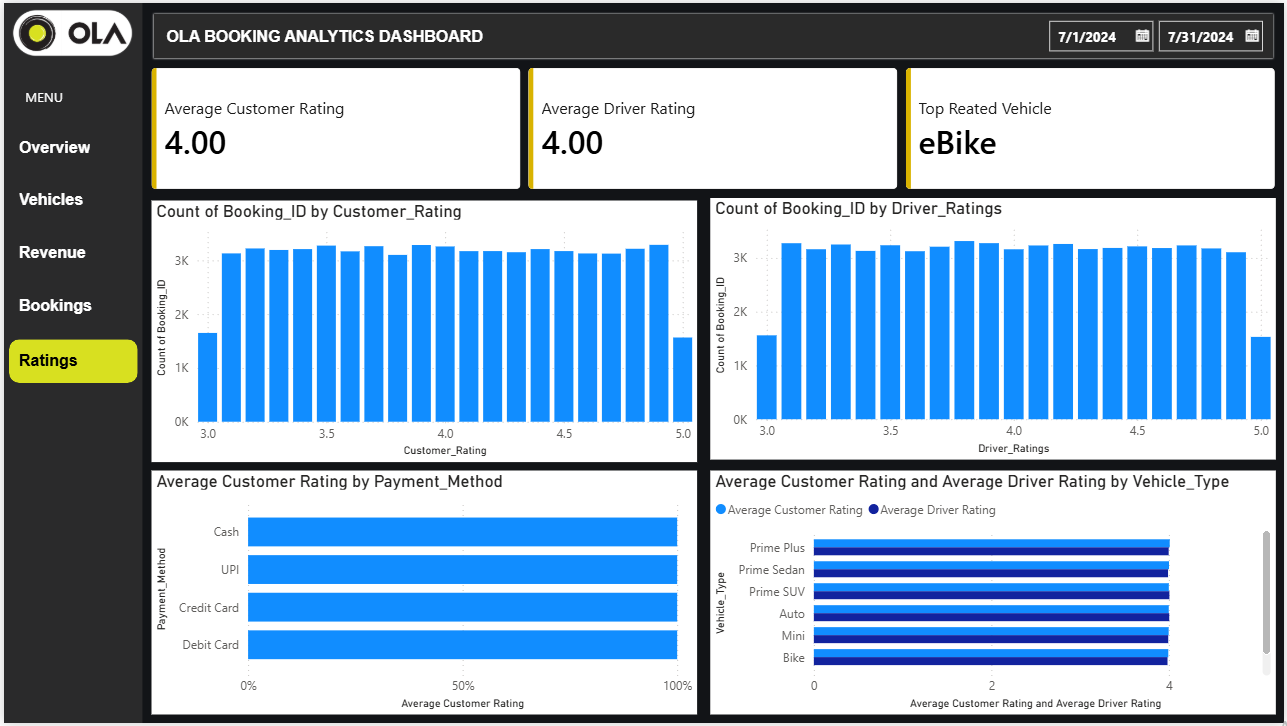

The page's visual inventory and layout, read from the dashboard file:
{"tool":"powerbi","page":{"name":"Ratings","canvas":[1280,720],"ordinal":4},"visuals":[{"type":"shape","box":[0,0,138.8,720],"z":0},{"type":"image","box":[8.8,2.5,120,55],"z":1000},{"type":"textbox","box":[16.2,80,53.8,28.8],"z":2000},{"type":"actionButton","box":[5,122.5,128.8,43.8],"z":3000},{"type":"actionButton","box":[5,175,128.8,43.8],"z":4000},{"type":"actionButton","box":[5,227.5,128.8,43.8],"z":5000},{"type":"actionButton","box":[5,281.2,128.8,43.8],"z":6000},{"type":"actionButton","box":[5,336.2,128.8,43.8],"z":7000},{"type":"shape","box":[147.5,8.8,1123.8,48.8],"z":7001},{"type":"textbox","box":[157.5,16.2,355,35],"z":7002},{"type":"slicer","fields":{"Values":["OLA_Booking_Dataset.Date"]},"box":[1032.6,7.4,239,45.6],"z":7003},{"type":"cardVisual","fields":{"Data":["OLA_Booking_Dataset.Average Customer Rating","OLA_Booking_Dataset.Average Driver Rating","OLA_Booking_Dataset.Top Reated Vehicle"]},"box":[147.9,65.3,1123.8,122],"z":7004},{"type":"clusteredColumnChart","fields":{"Category":["OLA_Booking_Dataset.Customer_Rating"],"Y":["CountNonNull(OLA_Booking_Dataset.Booking_ID)"]},"box":[147.9,197.2,545.9,261.2],"z":7005},{"type":"clusteredColumnChart","fields":{"Y":["CountNonNull(OLA_Booking_Dataset.Booking_ID)"],"Category":["OLA_Booking_Dataset.Driver_Ratings"]},"box":[706,194.7,565.6,261.2],"z":7006},{"type":"clusteredBarChart","fields":{"Category":["OLA_Booking_Dataset.Vehicle_Type"],"Y":["OLA_Booking_Dataset.Average Customer Rating","OLA_Booking_Dataset.Average Driver Rating"]},"box":[706,467,565.6,244],"z":7007},{"type":"hundredPercentStackedBarChart","fields":{"Category":["OLA_Booking_Dataset.Payment_Method"],"Y":["OLA_Booking_Dataset.Average Customer Rating"]},"box":[147.9,467,545.9,244],"z":7008}]}

Visuals, with their boxes in screenshot pixels (x1, y1, x2, y2), scaled from the page's 1280x720 canvas onto the 1287x726 screenshot:
shape: [left=0, top=0, right=140, bottom=725]
image: [left=9, top=3, right=130, bottom=58]
textbox: [left=16, top=81, right=70, bottom=110]
actionButton: [left=5, top=124, right=135, bottom=168]
actionButton: [left=5, top=176, right=135, bottom=221]
actionButton: [left=5, top=229, right=135, bottom=274]
actionButton: [left=5, top=284, right=135, bottom=328]
actionButton: [left=5, top=339, right=135, bottom=383]
shape: [left=148, top=9, right=1278, bottom=58]
textbox: [left=158, top=16, right=515, bottom=52]
slicer - OLA_Booking_Dataset.Date: [left=1038, top=7, right=1279, bottom=53]
cardVisual - OLA_Booking_Dataset.Average Customer Rating x OLA_Booking_Dataset.Average Driver Rating: [left=149, top=66, right=1279, bottom=189]
clusteredColumnChart - OLA_Booking_Dataset.Customer_Rating x CountNonNull(OLA_Booking_Dataset.Booking_ID): [left=149, top=199, right=698, bottom=462]
clusteredColumnChart - CountNonNull(OLA_Booking_Dataset.Booking_ID) x OLA_Booking_Dataset.Driver_Ratings: [left=710, top=196, right=1279, bottom=460]
clusteredBarChart - OLA_Booking_Dataset.Vehicle_Type x OLA_Booking_Dataset.Average Customer Rating: [left=710, top=471, right=1279, bottom=717]
hundredPercentStackedBarChart - OLA_Booking_Dataset.Payment_Method x OLA_Booking_Dataset.Average Customer Rating: [left=149, top=471, right=698, bottom=717]
